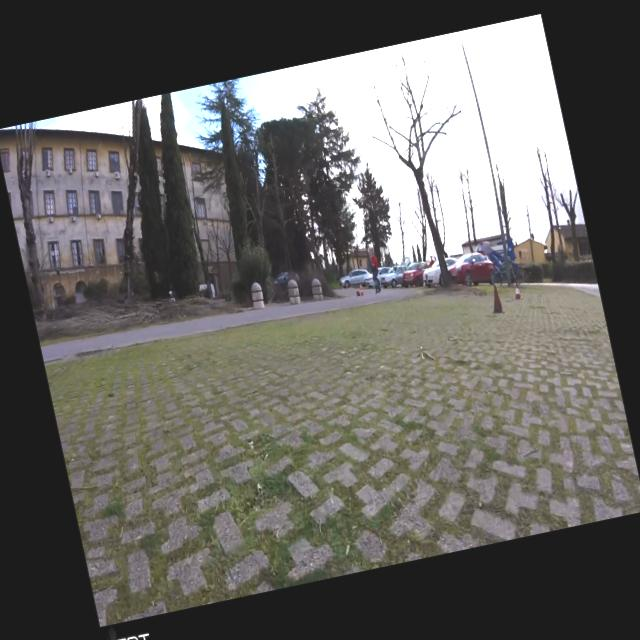large_orange_cone: (358, 284, 364, 296)
orange_cone: (512, 282, 522, 300)
unknown_cone: (486, 284, 506, 314)
